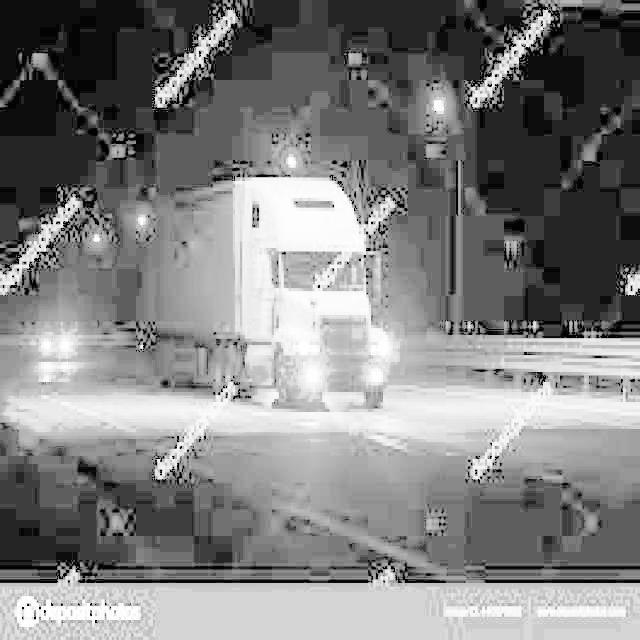Truck: (141, 174, 391, 409)
